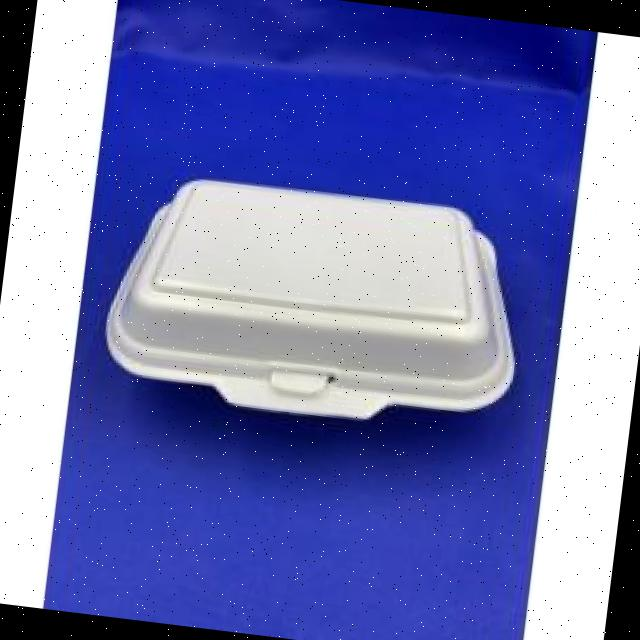styrofoam: (95, 162, 532, 440)
